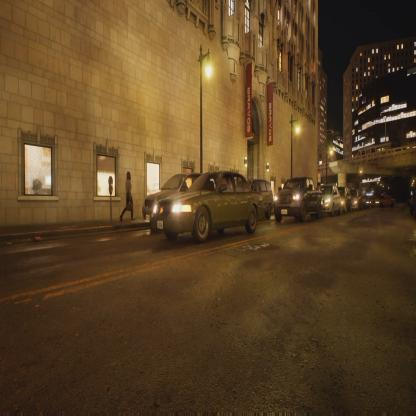License-Plate: (156, 219, 164, 231), (144, 212, 150, 221), (281, 208, 288, 215)
